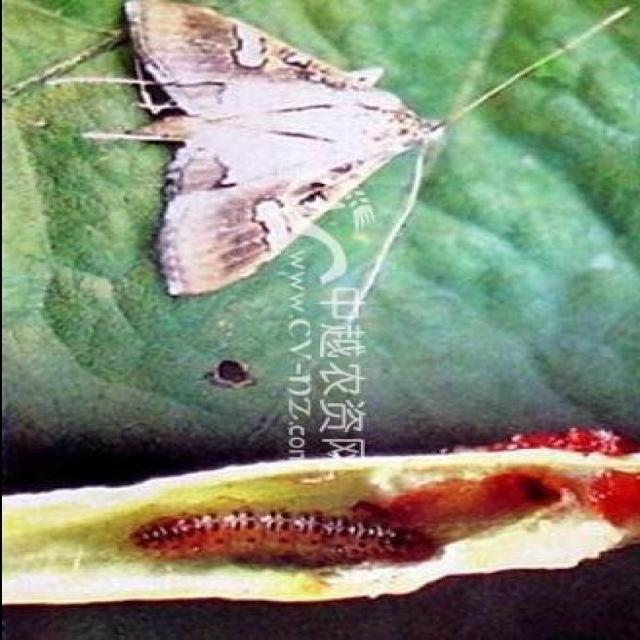peach borer: (114, 2, 446, 315), (108, 512, 452, 583)
